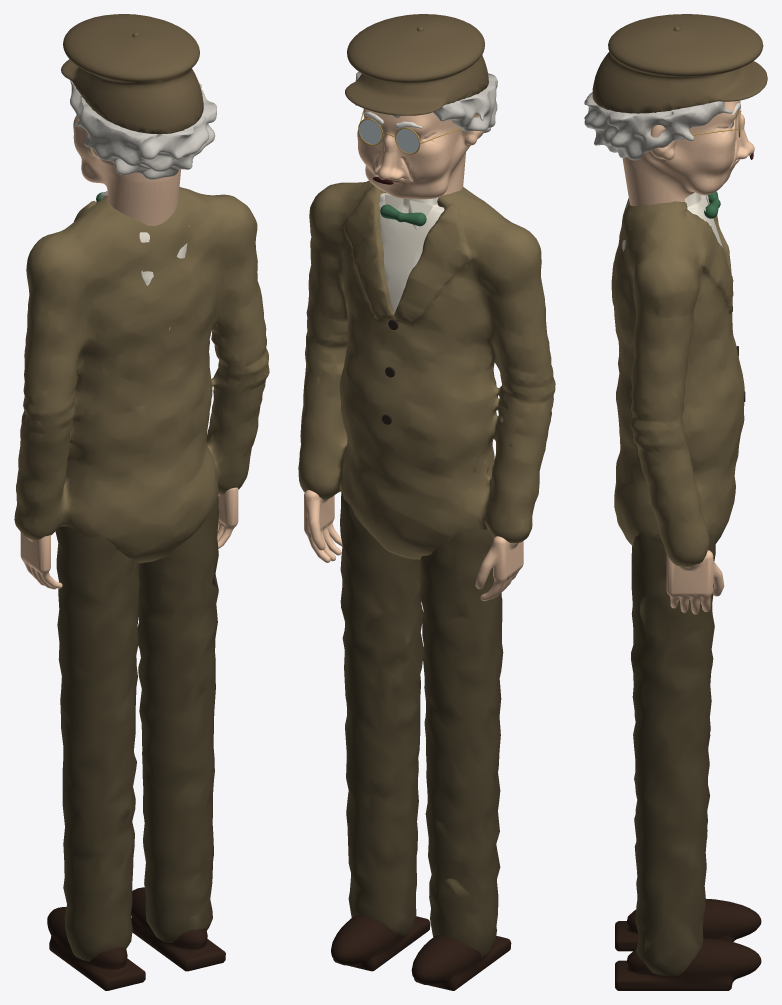
The model's file is lark.fbx.
3 views of the same model, side by side, from view 1: azimuth 30°, elevation 25°; view 2: azimuth 150°, elevation 25°; view 3: azimuth 270°, elevation 25° (orthographic).
Parts seen in each view (by area): view 1: Body, Hat, Head, HandR, HandL; view 2: Body, Hat, Head, HandL, HandR; view 3: Body, Hat, Head, HandL.
Part boxes in pixels (bbox=[...]): Body: bbox=[14, 187, 269, 990]; Hat: bbox=[61, 14, 203, 133]; Head: bbox=[70, 80, 216, 225]; HandR: bbox=[20, 532, 62, 589]; HandL: bbox=[217, 487, 238, 548]; Body: bbox=[298, 181, 555, 990]; Hat: bbox=[345, 14, 488, 115]; Head: bbox=[355, 72, 497, 199]; HandL: bbox=[304, 490, 342, 562]; HandR: bbox=[475, 536, 523, 601]; Body: bbox=[611, 191, 761, 990]; Hat: bbox=[592, 14, 767, 113]; Head: bbox=[584, 92, 754, 206]; HandL: bbox=[666, 550, 724, 614].
Bounding box in the file's own units: 0.48 × 1.76 × 0.3133.
